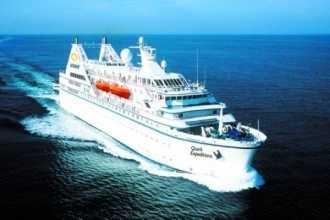youlun: (59, 28, 269, 177)
